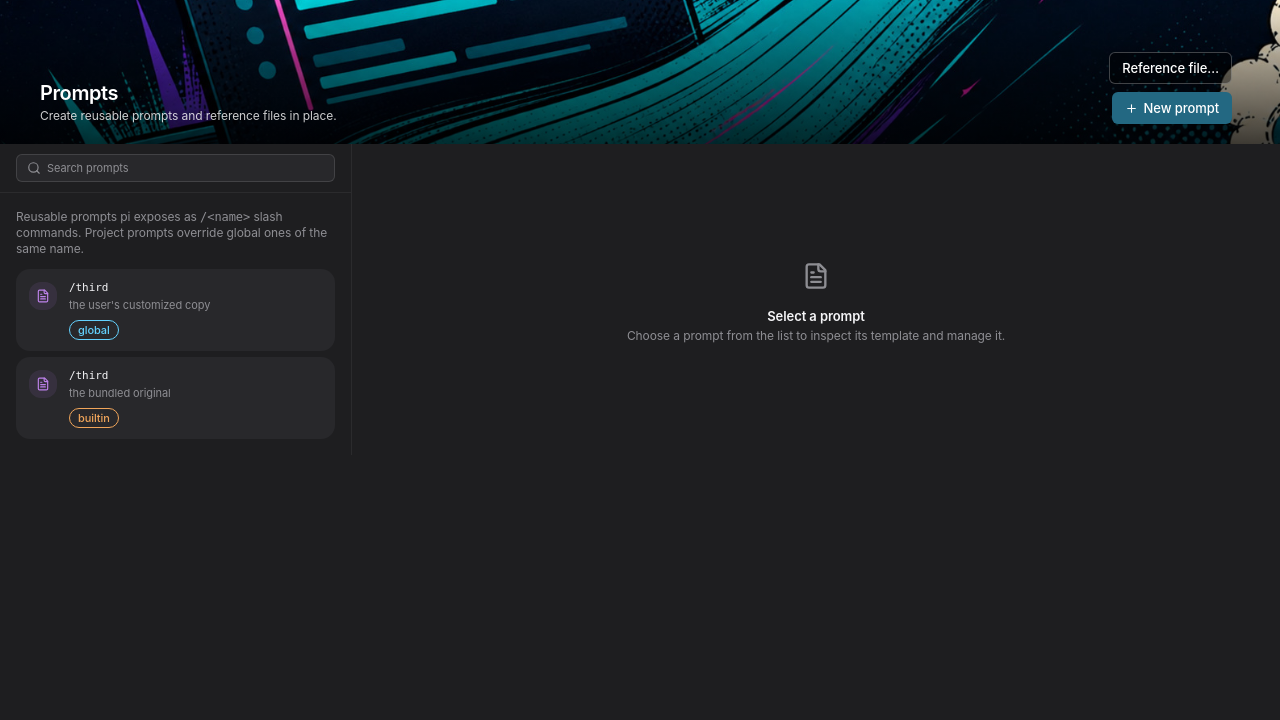
Scenario: builtin prompt source (PRM-02) › opening a builtin that is ALREADY customized edits the user's copy, never overwrites it blind
Step 1. Click the 2nd text "/third" → (89, 376), box x1=69 y1=368 x2=108 y2=384
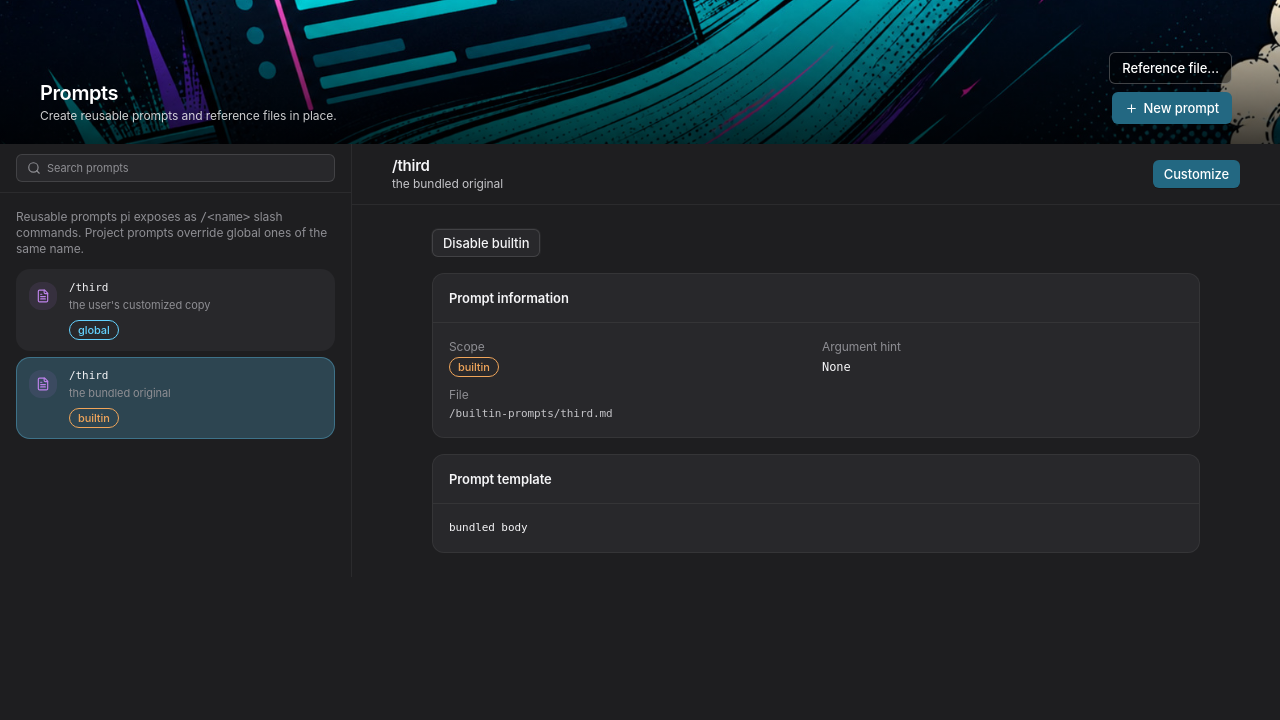
Step 2. Click the button "Customize" → (1196, 174), box x1=1153 y1=160 x2=1240 y2=188
(page scrolled)
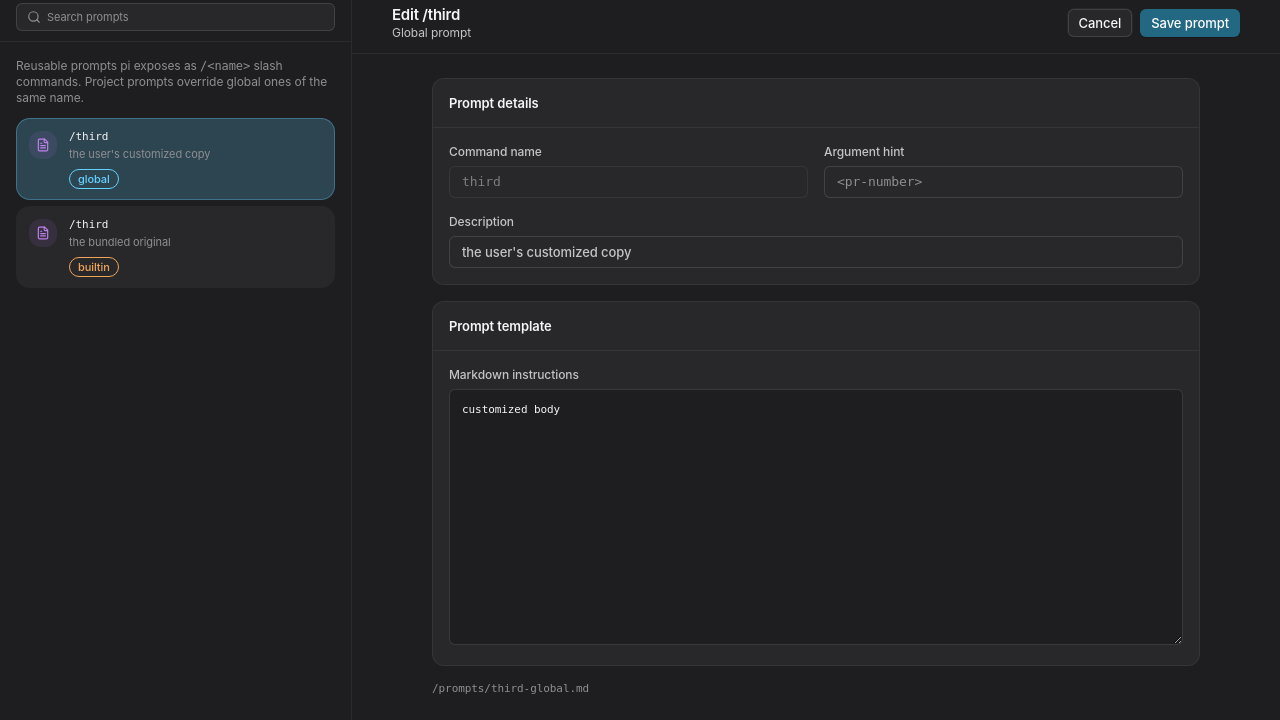
Now the element with test id "prompt-editor" is shown, box x1=432 y1=78 x2=1200 y2=696
Now the text with test id "prompt-file-path" shows "third-global.md", box x1=432 y1=682 x2=589 y2=695
